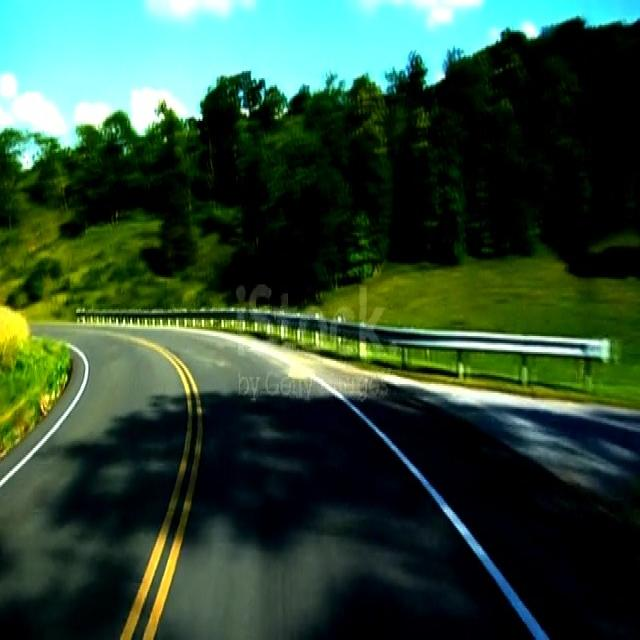lane: (314, 378, 549, 639), (120, 338, 202, 640), (2, 344, 88, 486)
road: (140, 331, 639, 636), (0, 325, 186, 636)
